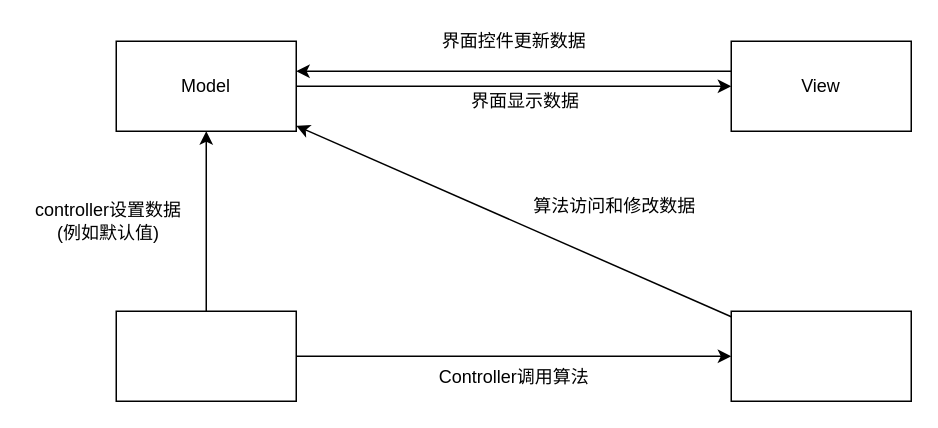
The diagram is 938 pixels wide and 428 high, and some of its shapes have lost their labels. The box of each missing label's shape, as (x1, y1, x2, y2) in pixels:
Controller: (115, 310, 296, 401)
算法: (730, 310, 911, 401)
